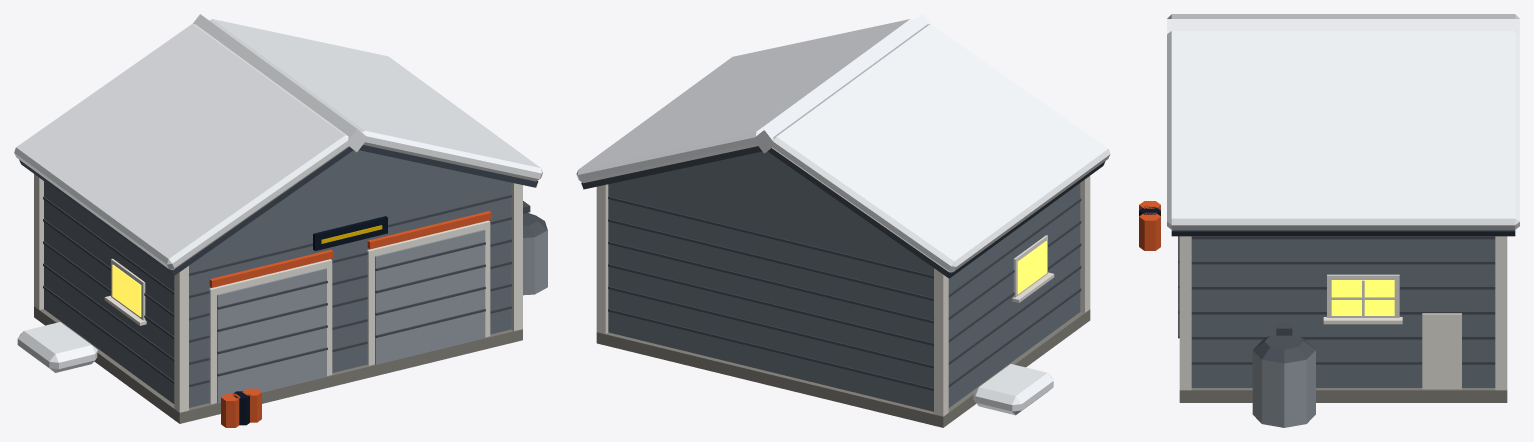
File: maintenance-garage.glb
3 views of the same model, side by side, from view 1: azimuth 30°, elevation 25°; view 2: azimuth 150°, elevation 25°; view 3: azimuth 270°, elevation 25° (orthographic). The views are drawn at different scales.
Parts seen in each view (by area): view 1: maintenance-garage; view 2: maintenance-garage; view 3: maintenance-garage.
Boxes of the visible parts, left/top/right/bottom form: maintenance-garage: left=14, top=14, right=547, bottom=427; maintenance-garage: left=576, top=14, right=1110, bottom=427; maintenance-garage: left=1139, top=14, right=1519, bottom=427.
Bounding box in the file's own units: 15.1 × 8.09 × 9.65.
